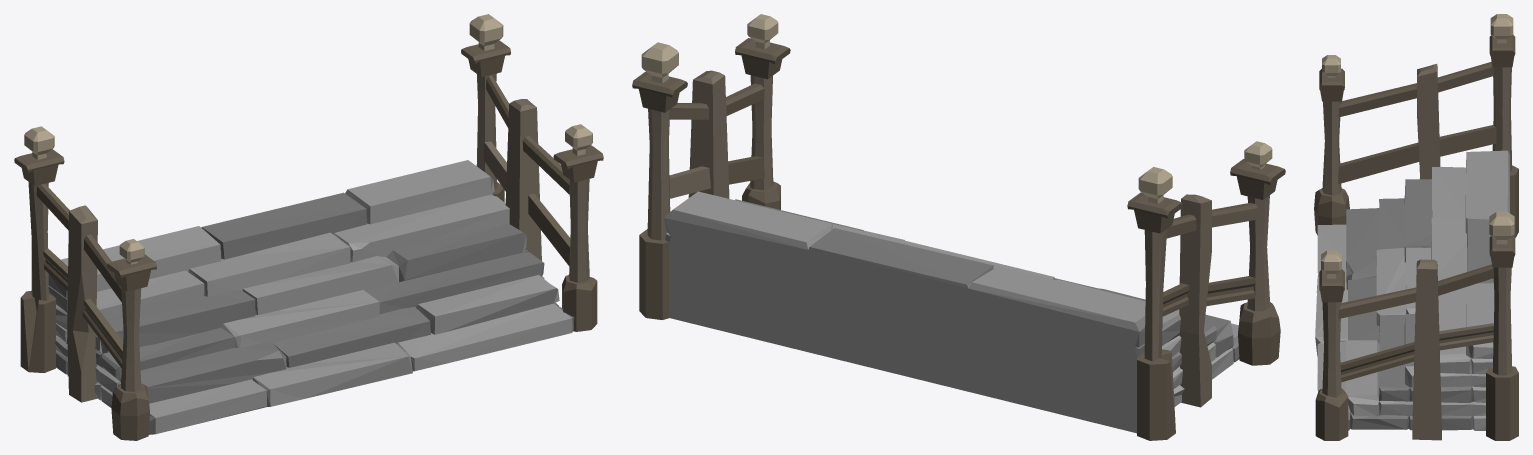
File: _STAIRS_03_1.fbx
3 renders of one model, left to right at view 1: azimuth 30°, elevation 25°; view 2: azimuth 150°, elevation 25°; view 3: azimuth 270°, elevation 25°, orthographic. The views are drawn at different scales.
Visible parts, largest first — view 1: STAIRS_03_1; view 2: STAIRS_03_1; view 3: STAIRS_03_1.
Boxes of the visible parts, x1=… form: STAIRS_03_1: x1=14, y1=14, x2=603, y2=440; STAIRS_03_1: x1=632, y1=14, x2=1285, y2=440; STAIRS_03_1: x1=1314, y1=14, x2=1518, y2=440.
Bounding box in the file's own units: 272 × 129 × 108.
